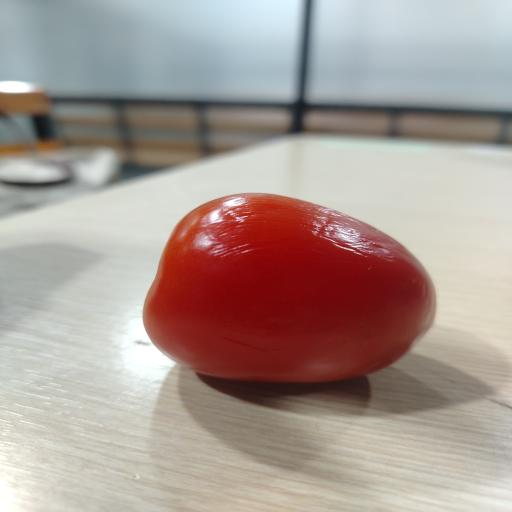spoiled: (144, 194, 436, 382)
